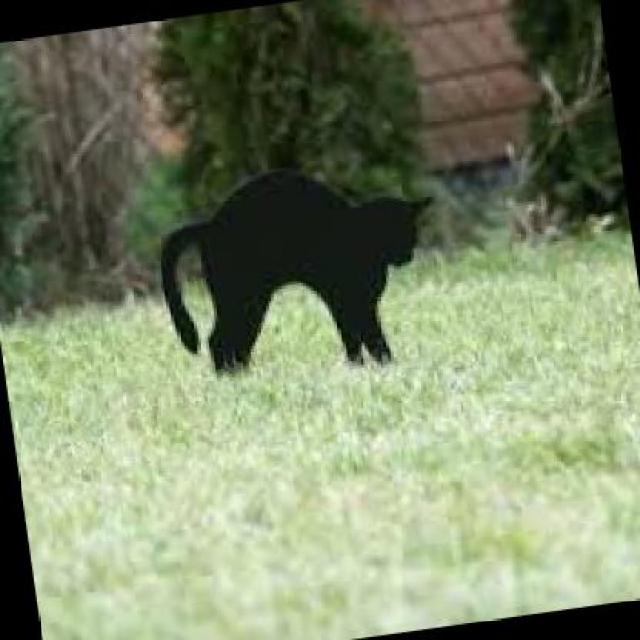animals: (121, 140, 465, 406)
